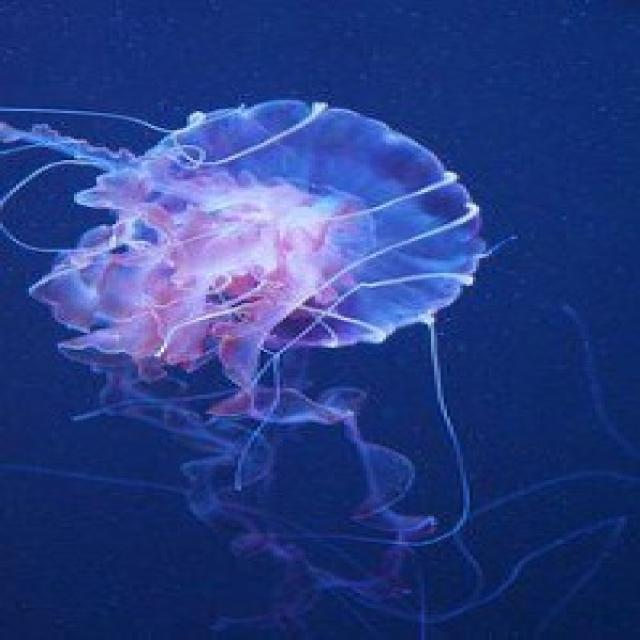Jellyfish: (0, 93, 528, 425)
